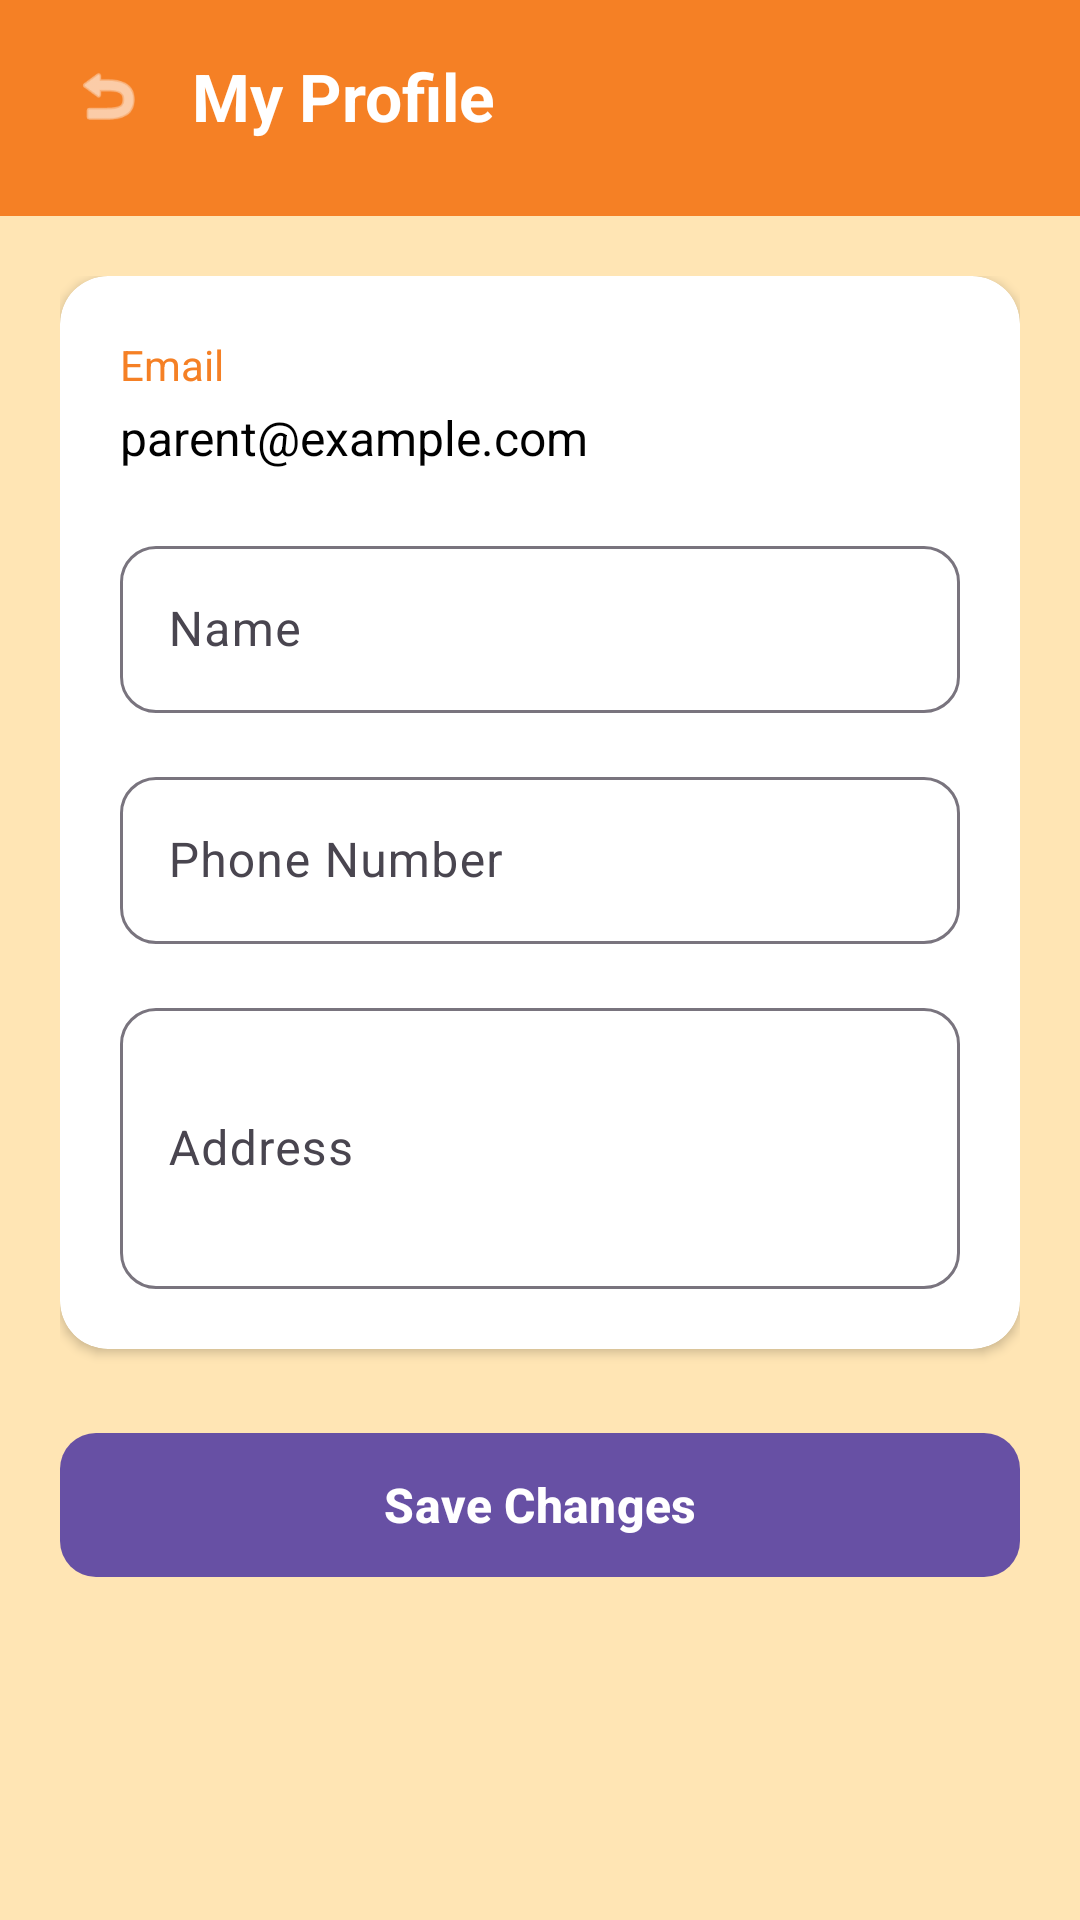

Where icons sit on this 1080x1920 app screen, as Rect(x1, y1, x2, y2):
Back: Rect(83, 73, 135, 120)
